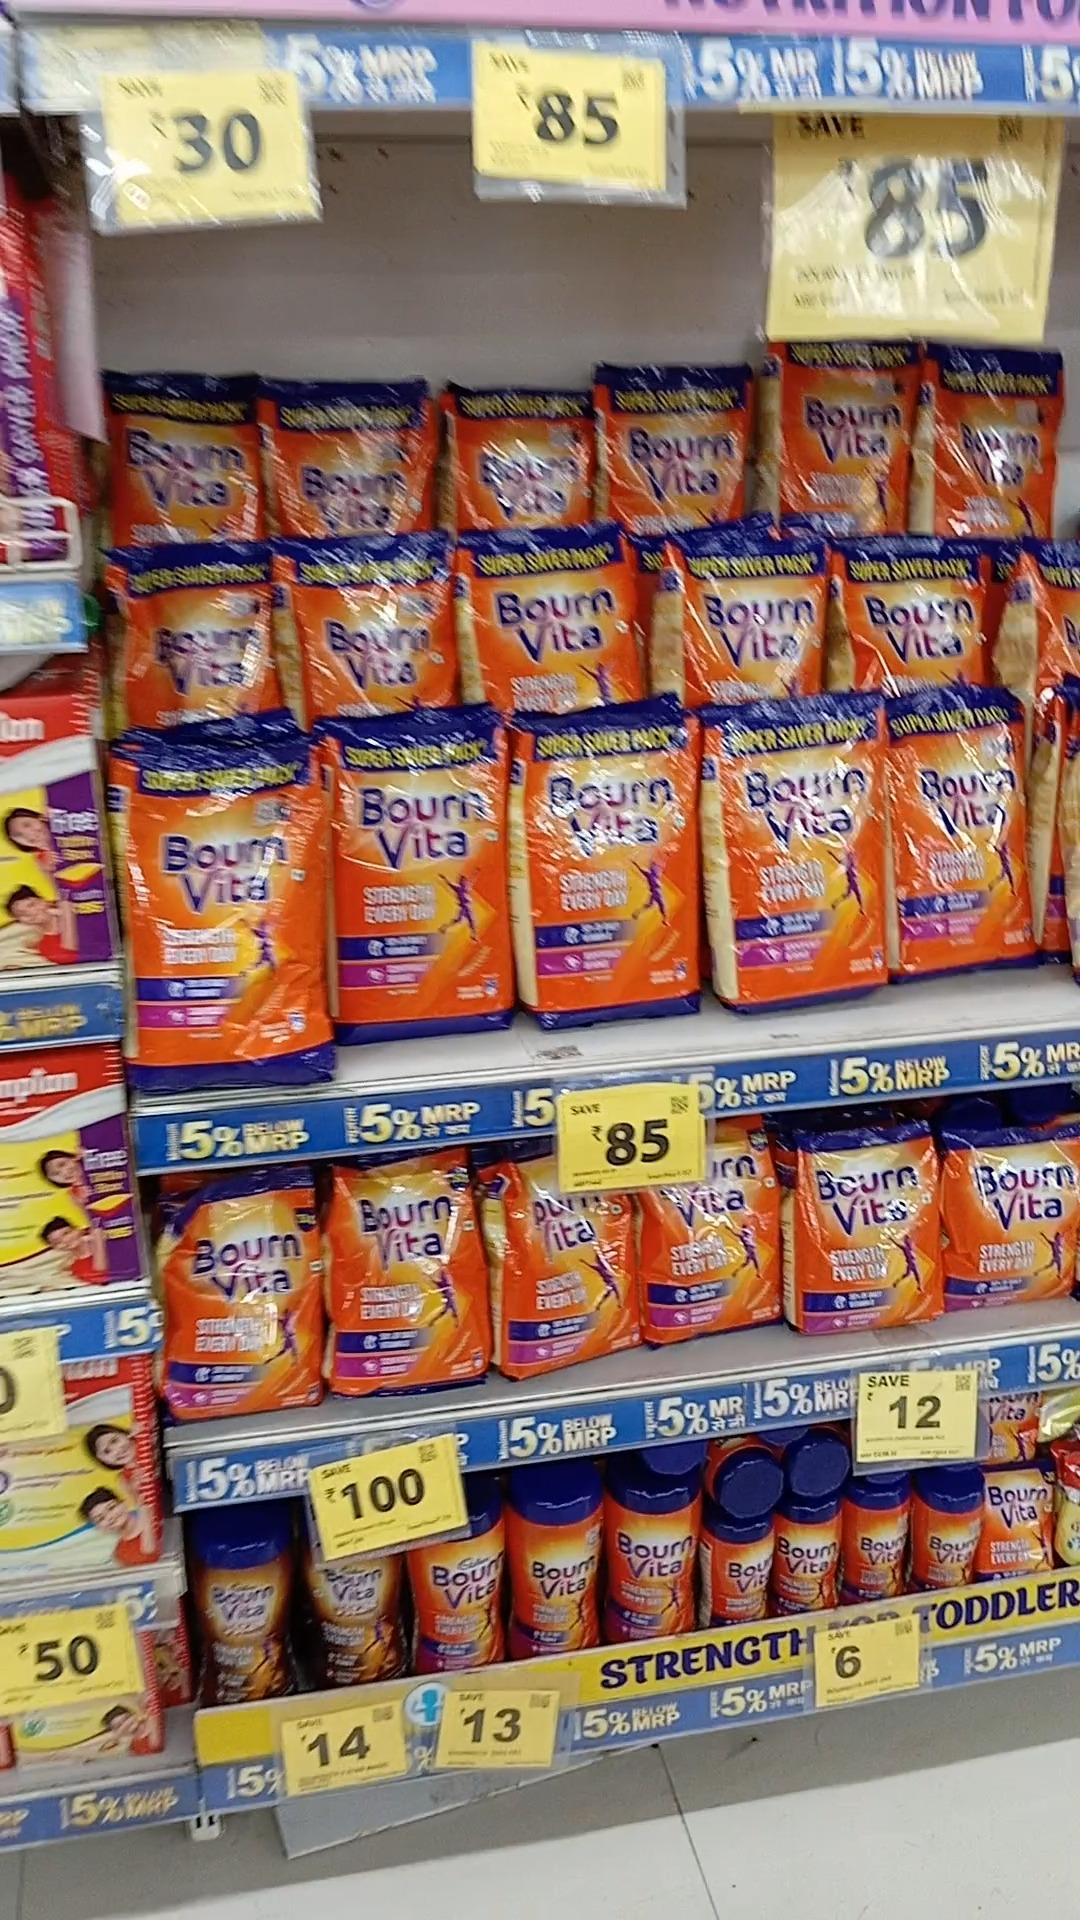BOURN_VITA_200_G_JAR: (913, 1487, 982, 1594), (848, 1484, 909, 1601), (715, 1516, 774, 1631), (777, 1501, 839, 1610)
BOURN_VITA_500_G_JAR: (512, 1485, 600, 1655), (414, 1511, 506, 1671), (607, 1484, 699, 1635)
BOURN_VITA_750_G_POUCH: (162, 1189, 313, 1415), (335, 1163, 479, 1386), (798, 1133, 938, 1338), (659, 1131, 778, 1344), (516, 1162, 637, 1366), (947, 1133, 1080, 1303)
BOURN_VITA_75_G_POUCH: (990, 1461, 1058, 1576)
BOURN_VITA_FIVE_STAR_MAGIC_500_G_JAR: (194, 1530, 293, 1708), (305, 1555, 396, 1692)
